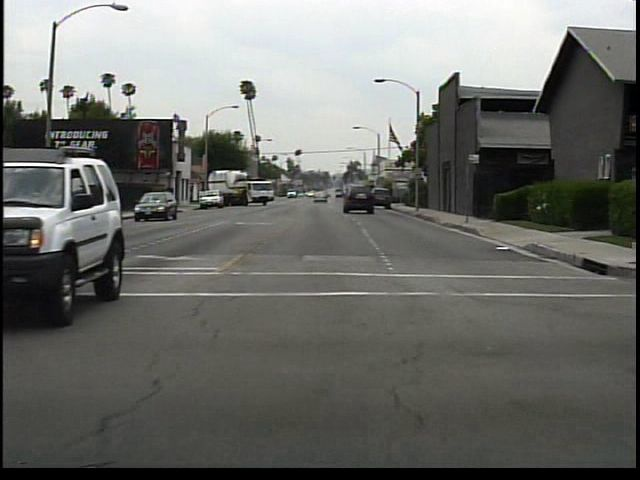person: (68, 181, 90, 222)
